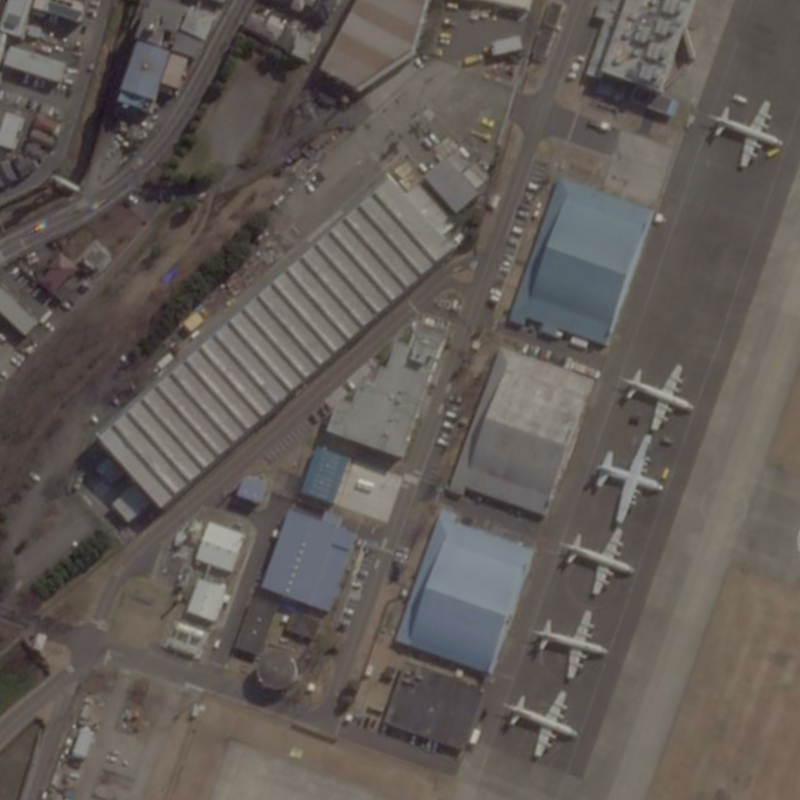A9: (585, 433, 670, 522), (501, 683, 590, 762), (530, 601, 609, 686), (557, 522, 642, 599), (704, 92, 785, 171), (618, 356, 700, 433)
